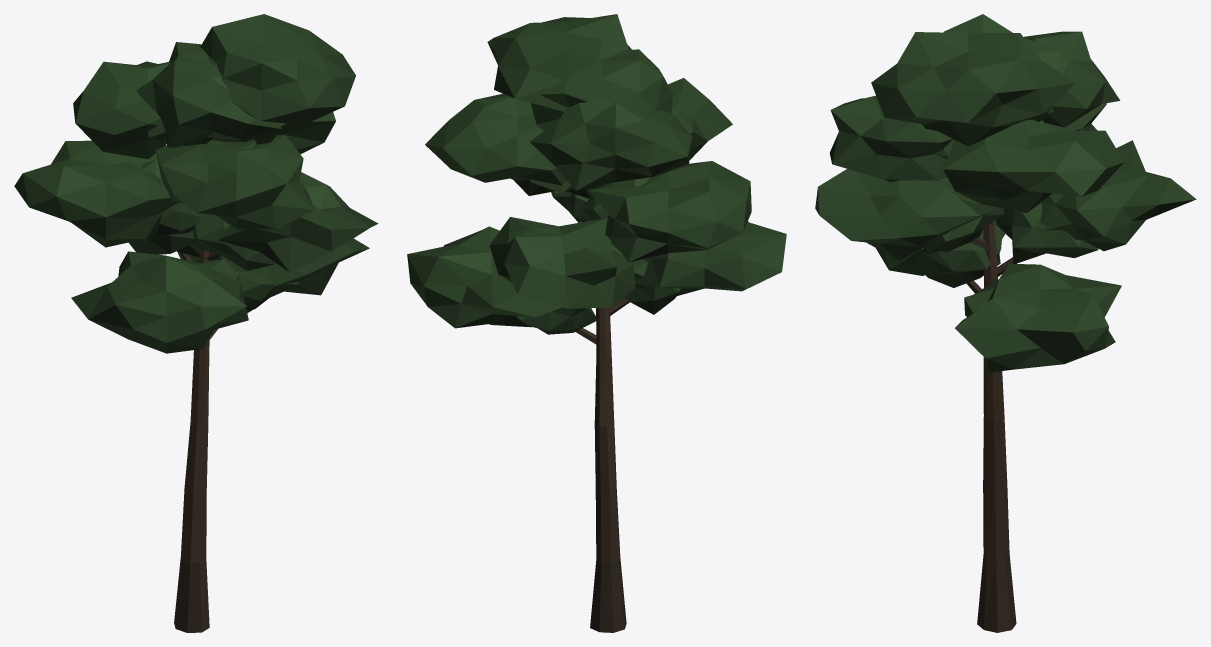
The model's file is radiata-pine.glb.
3 renders of one model, left to right at view 1: azimuth 30°, elevation 25°; view 2: azimuth 150°, elevation 25°; view 3: azimuth 270°, elevation 25°, orthographic. The views are drawn at different scales.
Visible parts, largest first — view 1: radiata-pine; view 2: radiata-pine; view 3: radiata-pine.
Part boxes in pixels (x1,y1,x2,y2): radiata-pine: (14, 14, 378, 632); radiata-pine: (407, 14, 786, 632); radiata-pine: (815, 14, 1196, 632).
Size of the model in its own units: 16.17 by 28.01 by 15.93.
